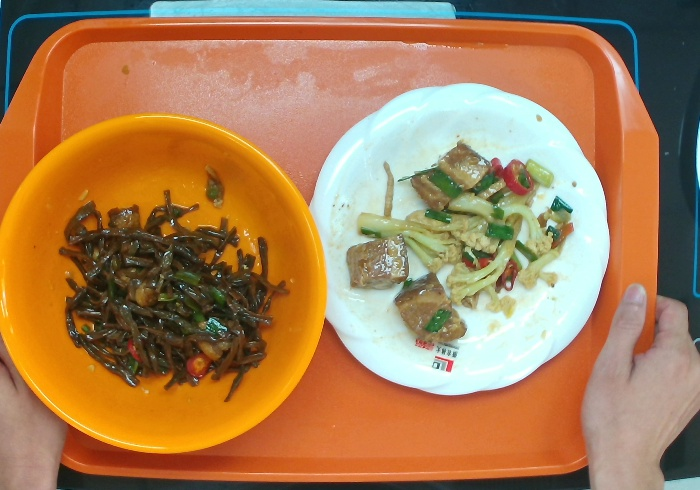ZNLD-Hua_Bian_Wan: (306, 81, 612, 397)
ZNLD-Ju_Se_Tang_Wan: (1, 111, 328, 455)
